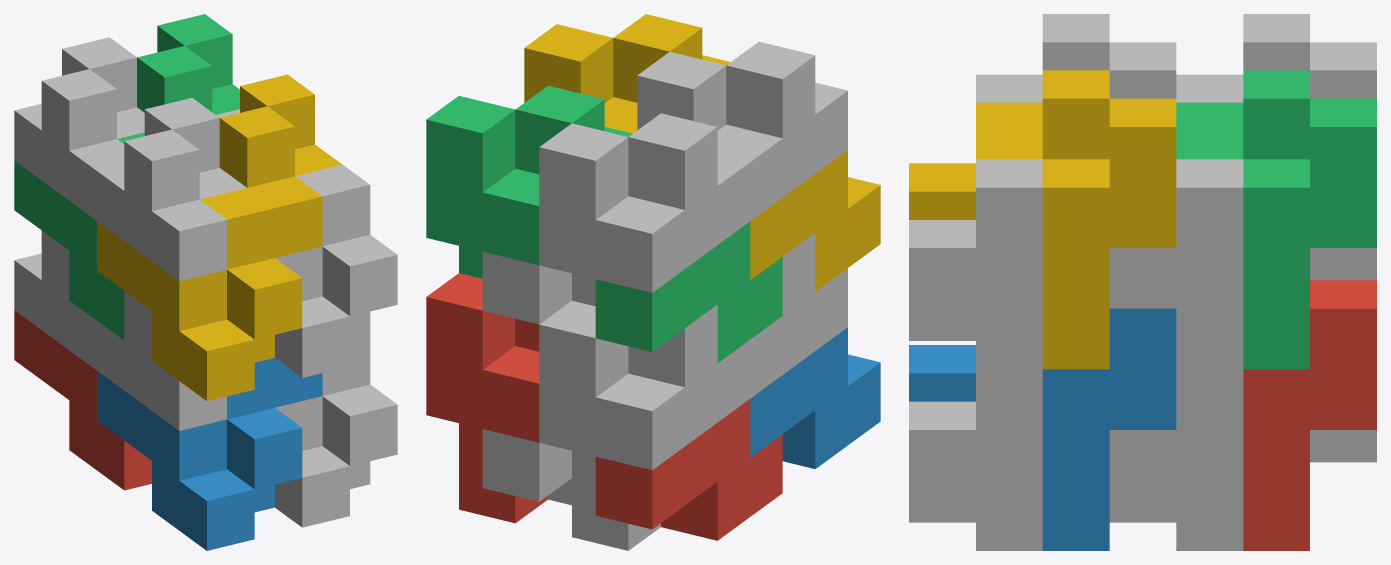
File: tiling.obj
The picture shows the model from 3 angles, left to right: view 1: azimuth 30°, elevation 25°; view 2: azimuth 150°, elevation 25°; view 3: azimuth 270°, elevation 25°; orthographic projection. The views are drawn at different scales.
Visible parts, largest first — view 1: copy_1_domain_4, copy_1_domain_2, copy_2_domain_4, copy_1_domain_8, copy_2_domain_3, copy_1_domain_6, copy_2_domain_8, copy_1_domain_1, copy_2_domain_7, copy_1_domain_3, copy_2_domain_2, copy_2_domain_1 (+1 smaller); view 2: copy_2_domain_3, copy_2_domain_1, copy_2_domain_4, copy_2_domain_7, copy_2_domain_5, copy_1_domain_1, copy_1_domain_3, copy_1_domain_2, copy_2_domain_8, copy_1_domain_4, copy_2_domain_2, copy_1_domain_5 (+1 smaller); view 3: copy_2_domain_8, copy_2_domain_7, copy_1_domain_8, copy_2_domain_5, copy_1_domain_5, copy_1_domain_7, copy_2_domain_6, copy_1_domain_6, copy_2_domain_4, copy_2_domain_3, copy_1_domain_4, copy_1_domain_2 (+1 smaller).
Boxes of the visible parts, x1,y1,x2,y2 form: copy_1_domain_4: (97, 188, 302, 400); copy_1_domain_2: (97, 358, 302, 550); copy_2_domain_4: (97, 98, 246, 281); copy_1_domain_8: (275, 164, 397, 377); copy_2_domain_3: (14, 37, 144, 220); copy_1_domain_6: (275, 334, 397, 527); copy_2_domain_8: (219, 74, 341, 257); copy_1_domain_1: (14, 310, 151, 490); copy_2_domain_7: (137, 14, 239, 114); copy_1_domain_3: (14, 132, 144, 340); copy_2_domain_2: (97, 291, 226, 430); copy_2_domain_1: (14, 230, 96, 370); copy_2_domain_3: (539, 113, 750, 306); copy_2_domain_1: (539, 300, 750, 550); copy_2_domain_4: (637, 41, 847, 220); copy_2_domain_7: (426, 85, 632, 278); copy_2_domain_5: (426, 273, 547, 523); copy_1_domain_1: (595, 399, 782, 540); copy_1_domain_3: (595, 221, 782, 362); copy_1_domain_2: (750, 327, 880, 469); copy_2_domain_8: (524, 14, 730, 133); copy_1_domain_4: (750, 150, 880, 291); copy_2_domain_2: (750, 233, 847, 398); copy_1_domain_5: (482, 429, 571, 505); copy_2_domain_8: (976, 70, 1176, 369); copy_2_domain_7: (1176, 70, 1376, 369); copy_1_domain_8: (909, 159, 1042, 369); copy_2_domain_5: (1243, 280, 1376, 550); copy_1_domain_5: (1109, 369, 1376, 550); copy_1_domain_7: (1109, 159, 1376, 369); copy_2_domain_6: (1042, 308, 1176, 550); copy_1_domain_6: (909, 369, 1042, 550); copy_2_domain_4: (976, 14, 1176, 102); copy_2_domain_3: (1176, 14, 1376, 102); copy_1_domain_4: (909, 102, 1042, 219); copy_1_domain_2: (909, 345, 975, 401).
Size of the model in its own units: 4 by 7 by 7.
